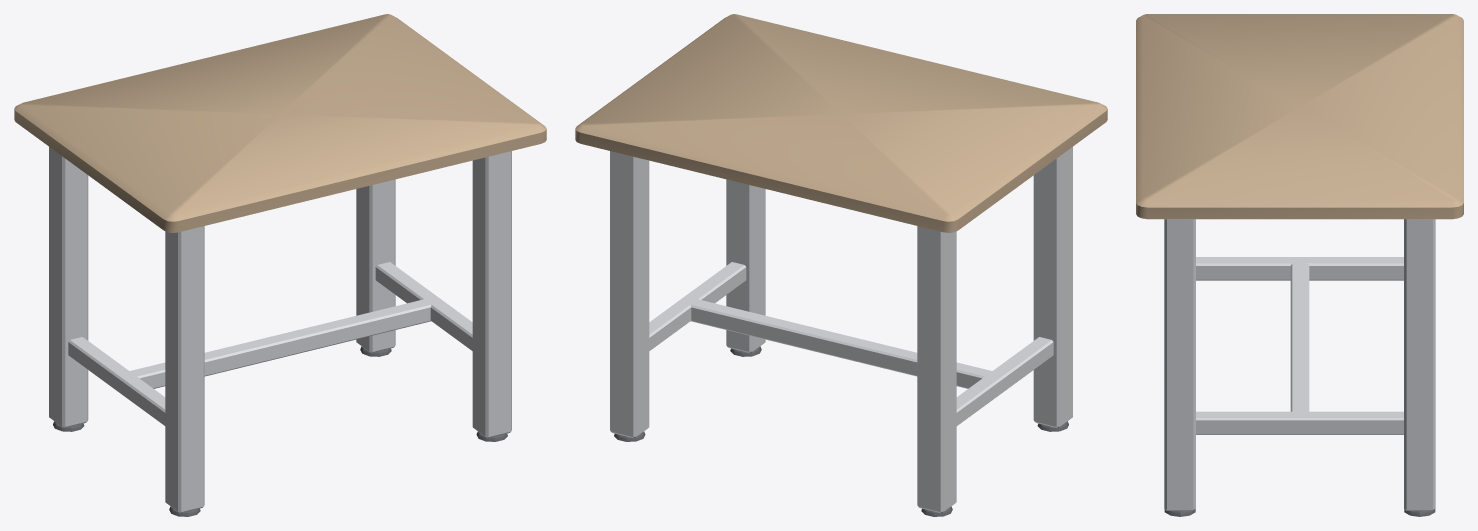
3 views of the same model, side by side, from view 1: azimuth 30°, elevation 25°; view 2: azimuth 150°, elevation 25°; view 3: azimuth 270°, elevation 25° (orthographic). The views are drawn at different scales.
Parts seen in each view (by area): view 1: nesting-display-table-small; view 2: nesting-display-table-small; view 3: nesting-display-table-small.
Part boxes in pixels (box(x1,y1,x2,y2)): nesting-display-table-small: box(14, 14, 546, 516); nesting-display-table-small: box(575, 14, 1107, 516); nesting-display-table-small: box(1136, 14, 1463, 516).
Size of the model in its own units: 0.72 by 0.57 by 0.52.
